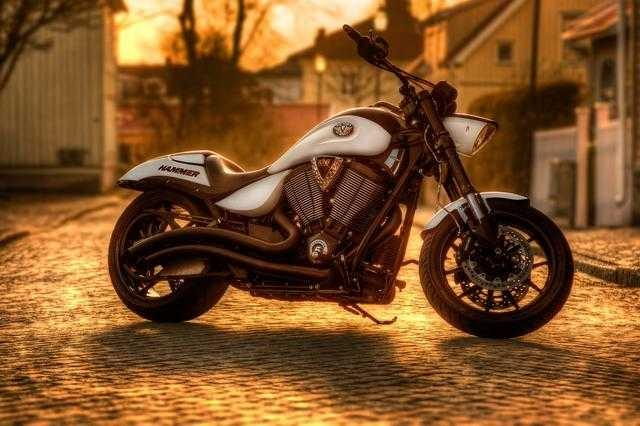motorbike: (102, 33, 578, 347)
